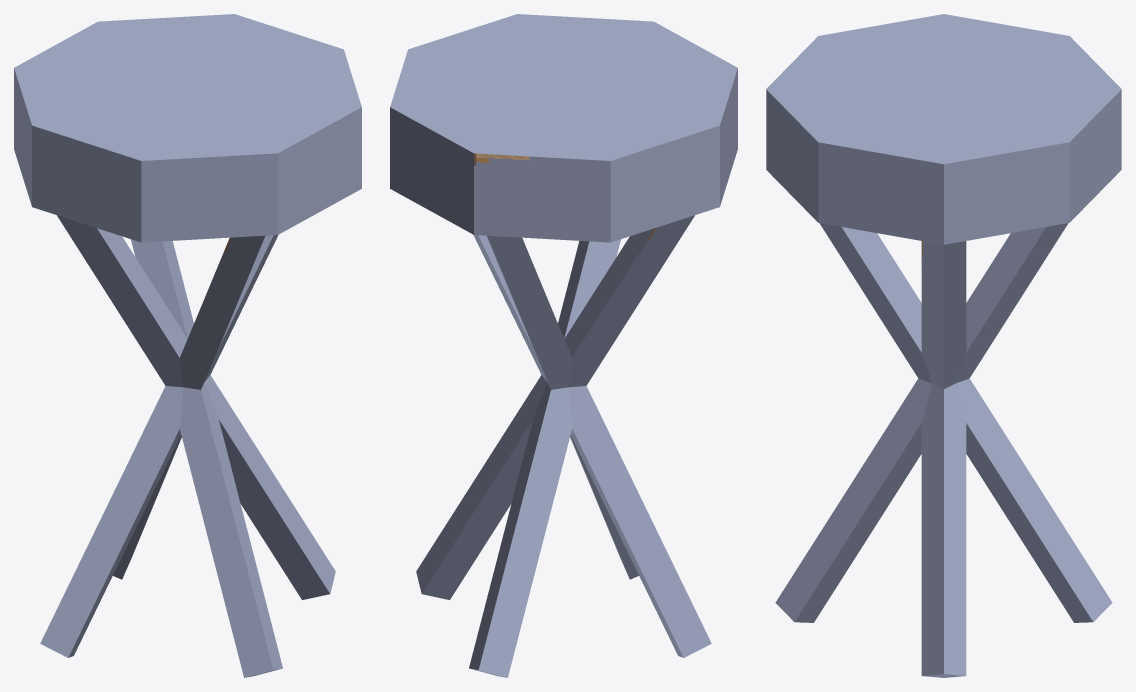
The model's file is chair_round_01.FBX.
3 renders of one model, left to right at view 1: azimuth 30°, elevation 25°; view 2: azimuth 150°, elevation 25°; view 3: azimuth 270°, elevation 25°, orthographic.
Visible parts, largest first — view 1: chair_round_01; view 2: chair_round_01; view 3: chair_round_01.
Boxes of the visible parts, x1,y1,x2,y2 form: chair_round_01: [14, 14, 361, 677]; chair_round_01: [390, 14, 737, 677]; chair_round_01: [766, 14, 1121, 677].
Size of the model in its own units: 32 by 53 by 32.
